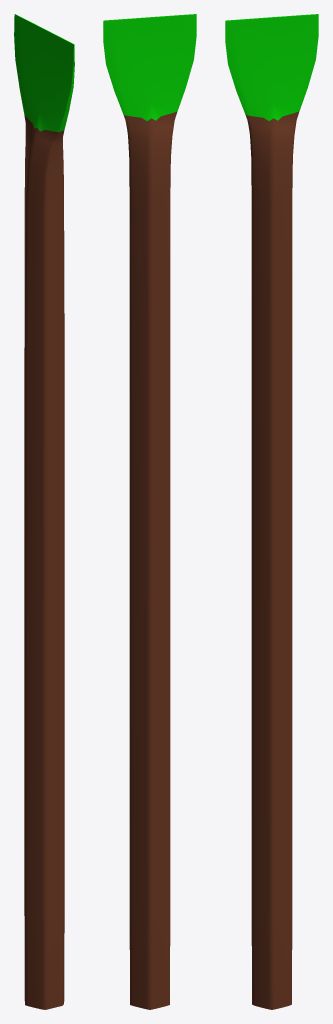
The model's file is ChiselHP.fbx.
The picture shows the model from 3 angles, left to right: view 1: azimuth 90°, elevation 25°; view 2: azimuth 150°, elevation 25°; view 3: azimuth 330°, elevation 25°; orthographic projection.
Parts seen in each view (by area): view 1: pCylinder2; view 2: pCylinder2; view 3: pCylinder2.
Part boxes in pixels (x1,y1,x2,y2): pCylinder2: (14, 14, 74, 1009); pCylinder2: (103, 14, 196, 1009); pCylinder2: (225, 14, 318, 1009).
Size of the model in its own units: 0.7838 by 11.5 by 0.6521.
